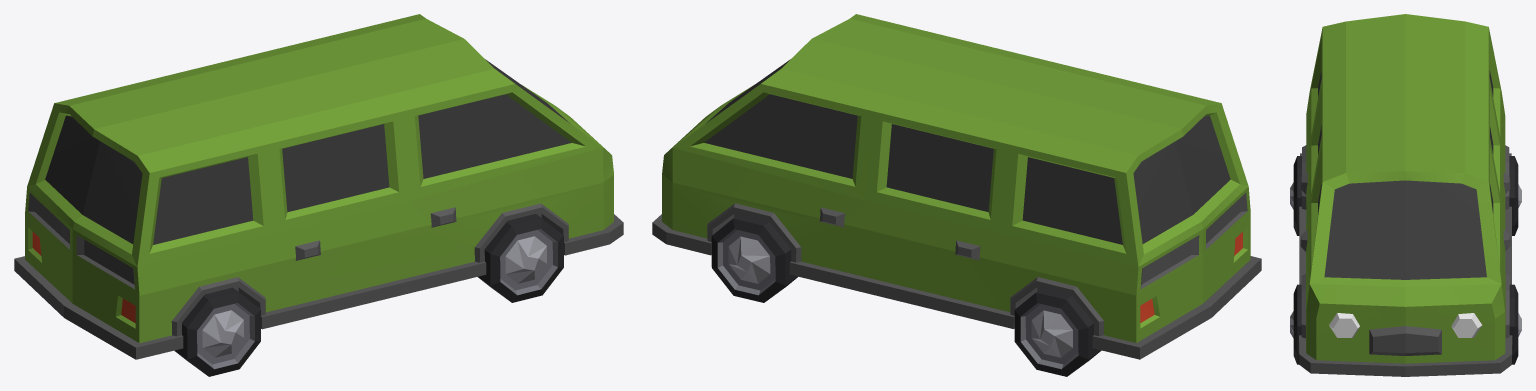
The model's file is car4.fbx.
3 views of the same model, side by side, from view 1: azimuth 30°, elevation 25°; view 2: azimuth 150°, elevation 25°; view 3: azimuth 270°, elevation 25° (orthographic). The views are drawn at different scales.
Visible parts, largest first — view 1: car4, car4_wheels_B, car4_wheels_F; view 2: car4, car4_wheels_F, car4_wheels_B; view 3: car4, car4_wheels_F, car4_wheels_B.
Part boxes in pixels (left/top/right/bottom): car4: left=14, top=14, right=623, bottom=359; car4_wheels_B: left=174, top=287, right=260, bottom=376; car4_wheels_F: left=478, top=214, right=563, bottom=302; car4: left=652, top=14, right=1261, bottom=359; car4_wheels_F: left=711, top=213, right=798, bottom=302; car4_wheels_B: left=1014, top=287, right=1101, bottom=376; car4: left=1299, top=14, right=1512, bottom=376; car4_wheels_F: left=1290, top=284, right=1521, bottom=364; car4_wheels_B: left=1290, top=156, right=1521, bottom=235.
Bounding box in the file's own units: 763 × 305 × 343.
